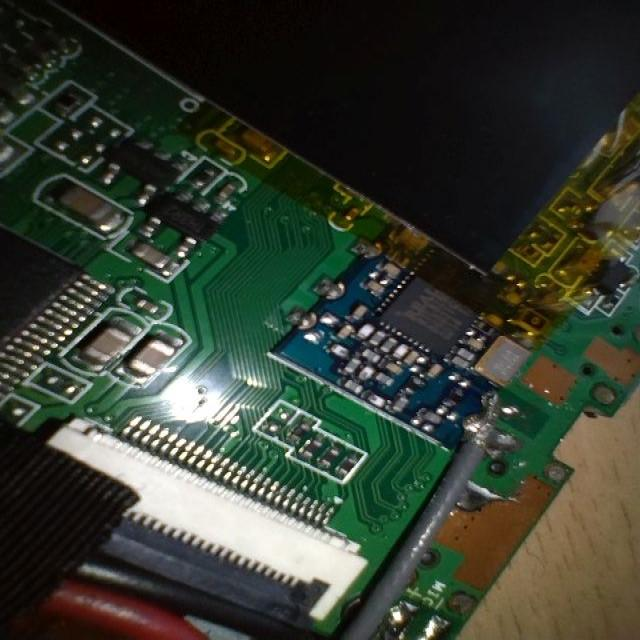capacitor: (67, 278, 136, 400), (42, 163, 132, 245), (112, 316, 184, 395)
